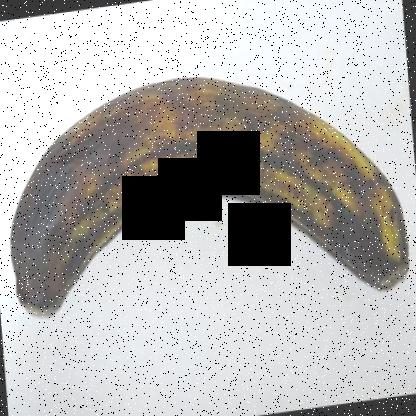overripe: (10, 68, 415, 323)
